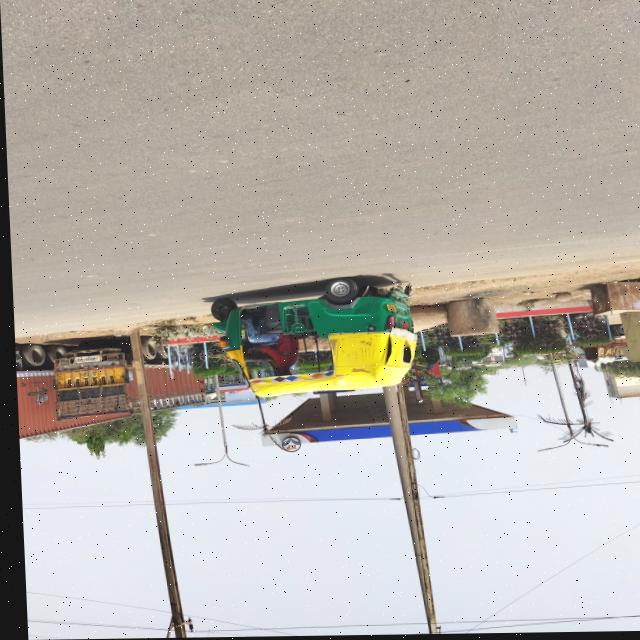plate: (383, 305, 394, 313)
